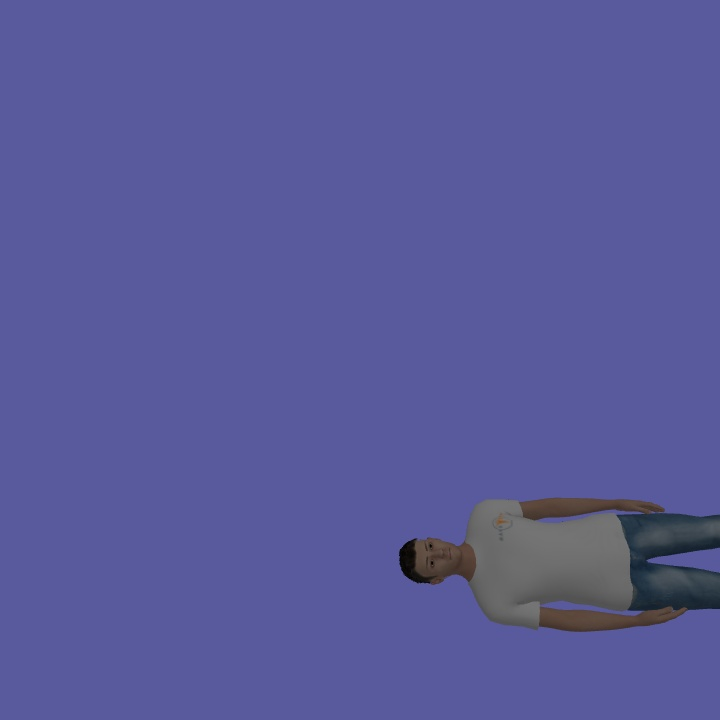victim: (399, 496, 720, 634)
